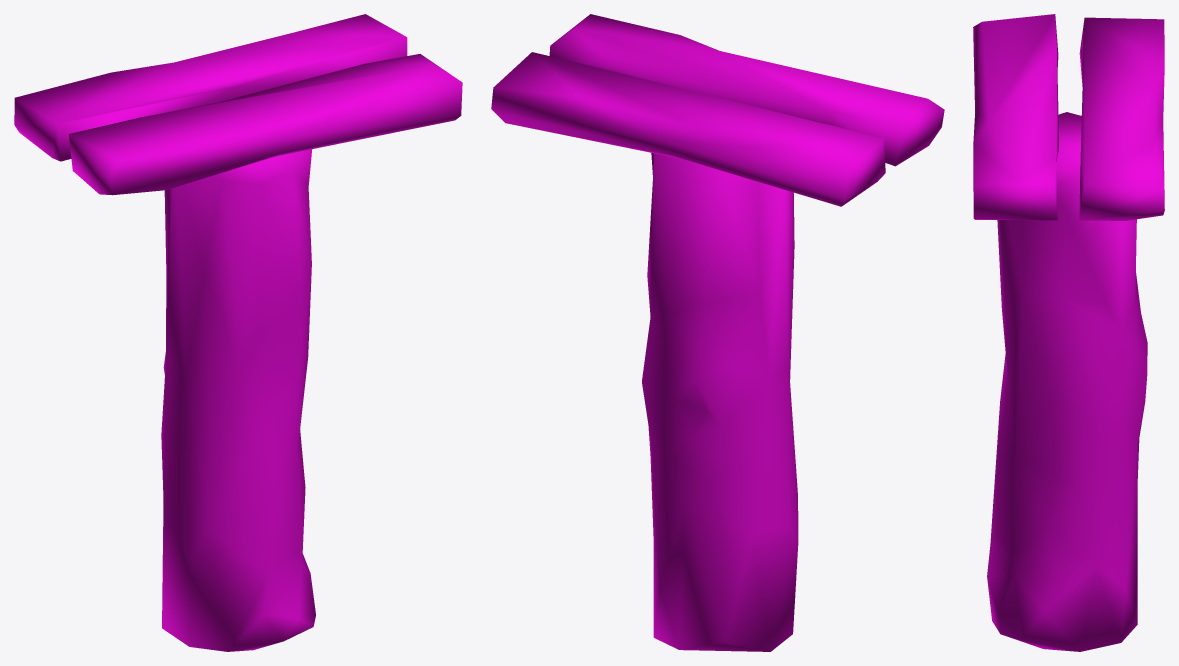
File: Support Pillar.fbx
3 views of the same model, side by side, from view 1: azimuth 30°, elevation 25°; view 2: azimuth 150°, elevation 25°; view 3: azimuth 270°, elevation 25° (orthographic). The views are drawn at different scales.
Parts seen in each view (by area): view 1: Pilar_low; view 2: Pilar_low; view 3: Pilar_low.
Part boxes in pixels (bbox=[...]): Pilar_low: bbox=[14, 14, 462, 651]; Pilar_low: bbox=[491, 14, 944, 651]; Pilar_low: bbox=[973, 14, 1164, 651].
Size of the model in its own units: 67.09 by 98.04 by 32.07.
